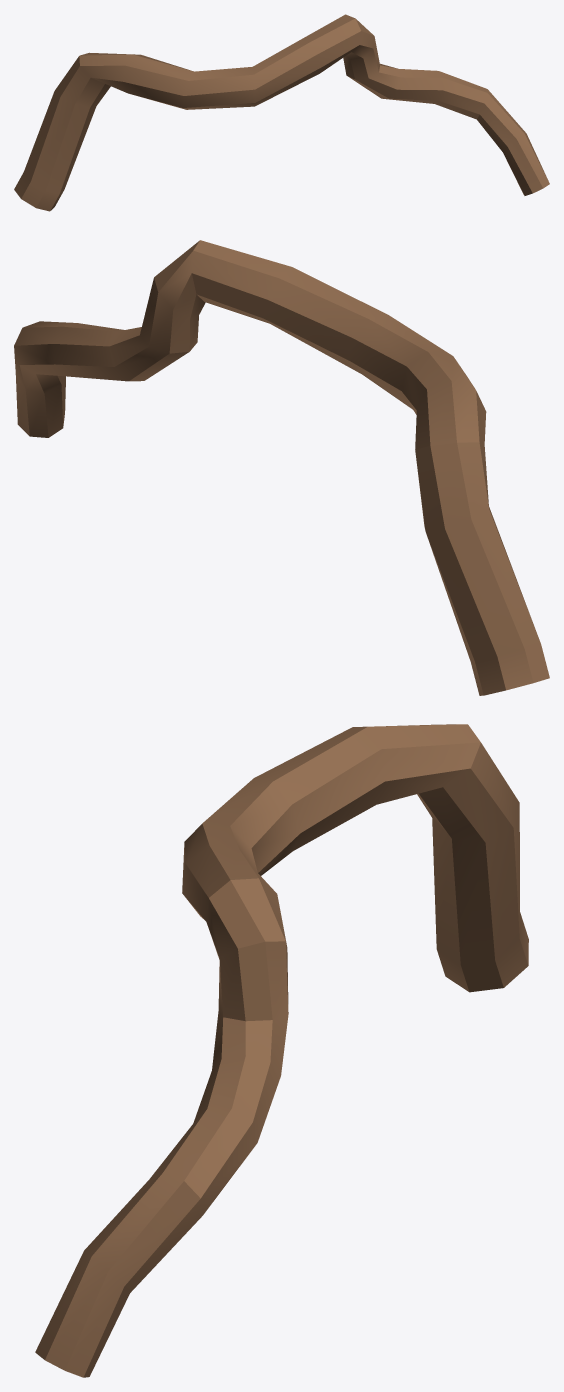
3 renders of one model, top to bottom at view 1: azimuth 30°, elevation 25°; view 2: azimuth 150°, elevation 25°; view 3: azimuth 270°, elevation 25°, orthographic. The views are drawn at different scales.
Visible parts, largest first — view 1: pCylinder1; view 2: pCylinder1; view 3: pCylinder1.
Part boxes in pixels (left/top/right/bottom): pCylinder1: left=14, top=14, right=549, bottom=211; pCylinder1: left=14, top=240, right=549, bottom=695; pCylinder1: left=35, top=724, right=528, bottom=1377.
Bounding box in the file's own units: 7.25 × 2.94 × 3.64.
